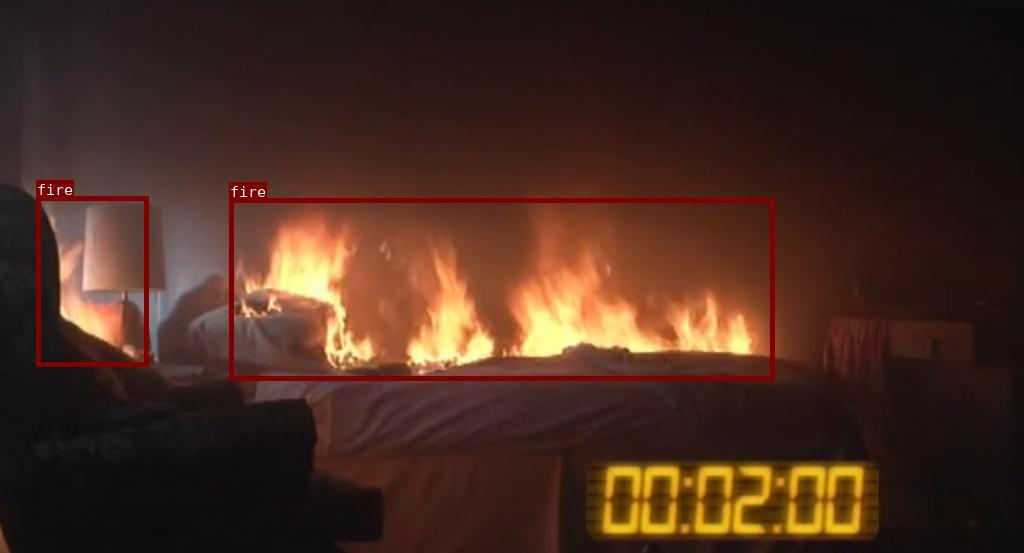fire: (229, 197, 774, 379), (36, 196, 148, 365)
